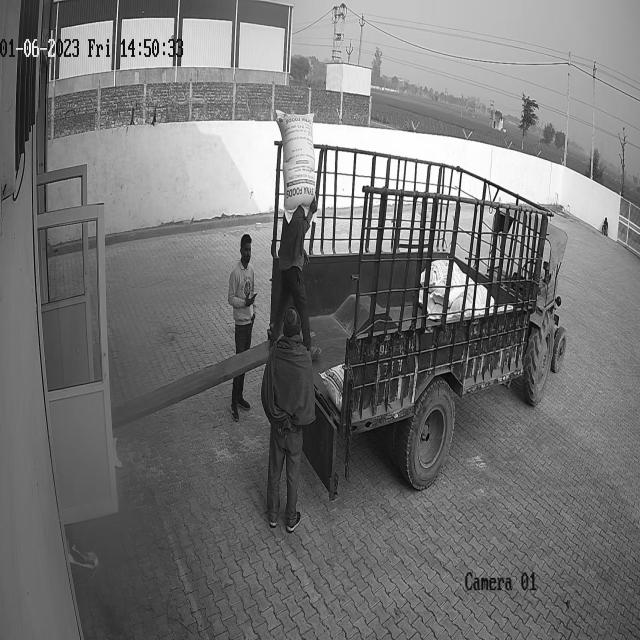sack: (273, 109, 316, 224)
